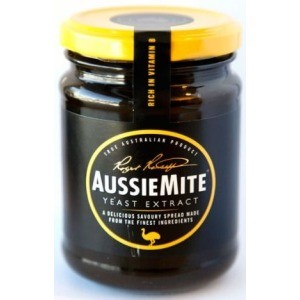yeast spread_brain food: (62, 74, 242, 249)
